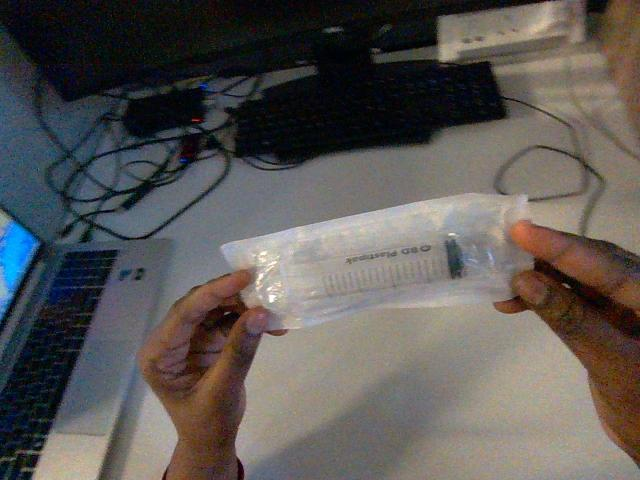syringe: (221, 194, 532, 329)
